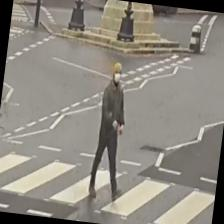person: (87, 60, 131, 200)
